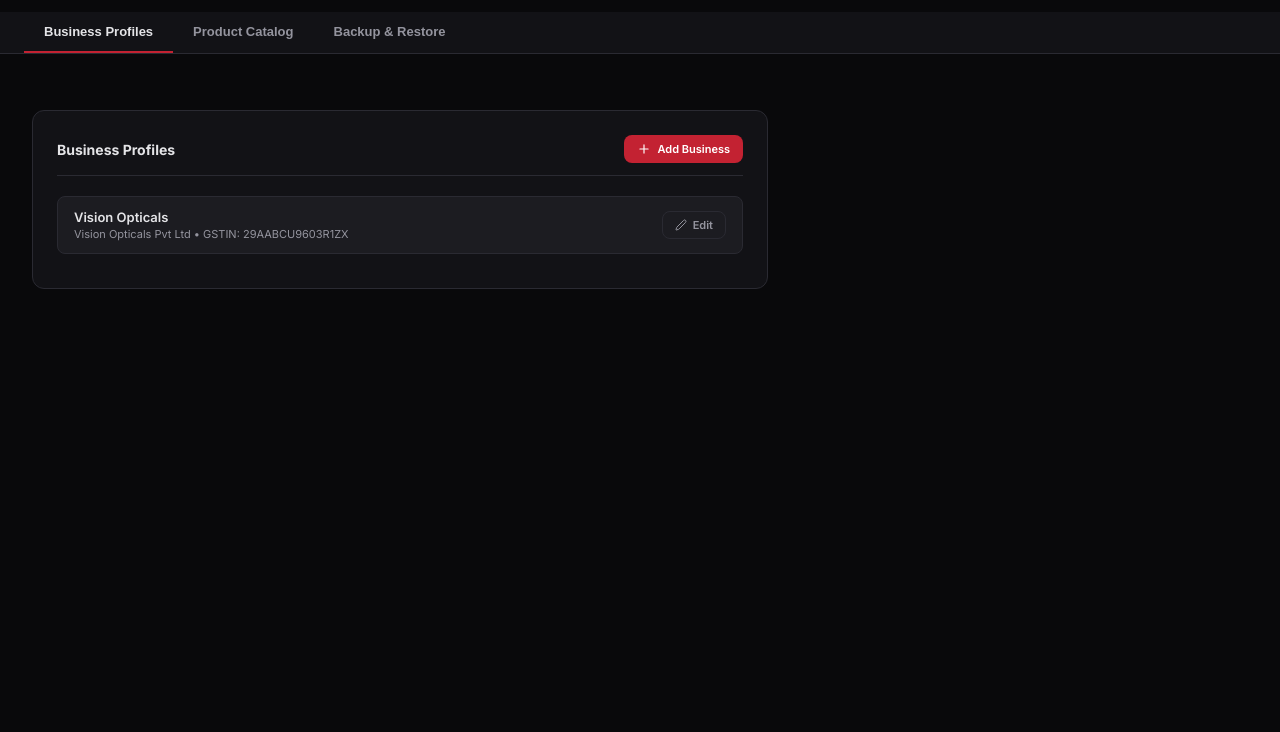
Test: SettingsScreen — Catalog CRUD › SC1: Existing catalog products are visible in the catalog tab
What coordinates should you click on to do the following:
click the button "Product Catalog"
I would click on:
 (243, 32)
Its box is [173,12,314,53].
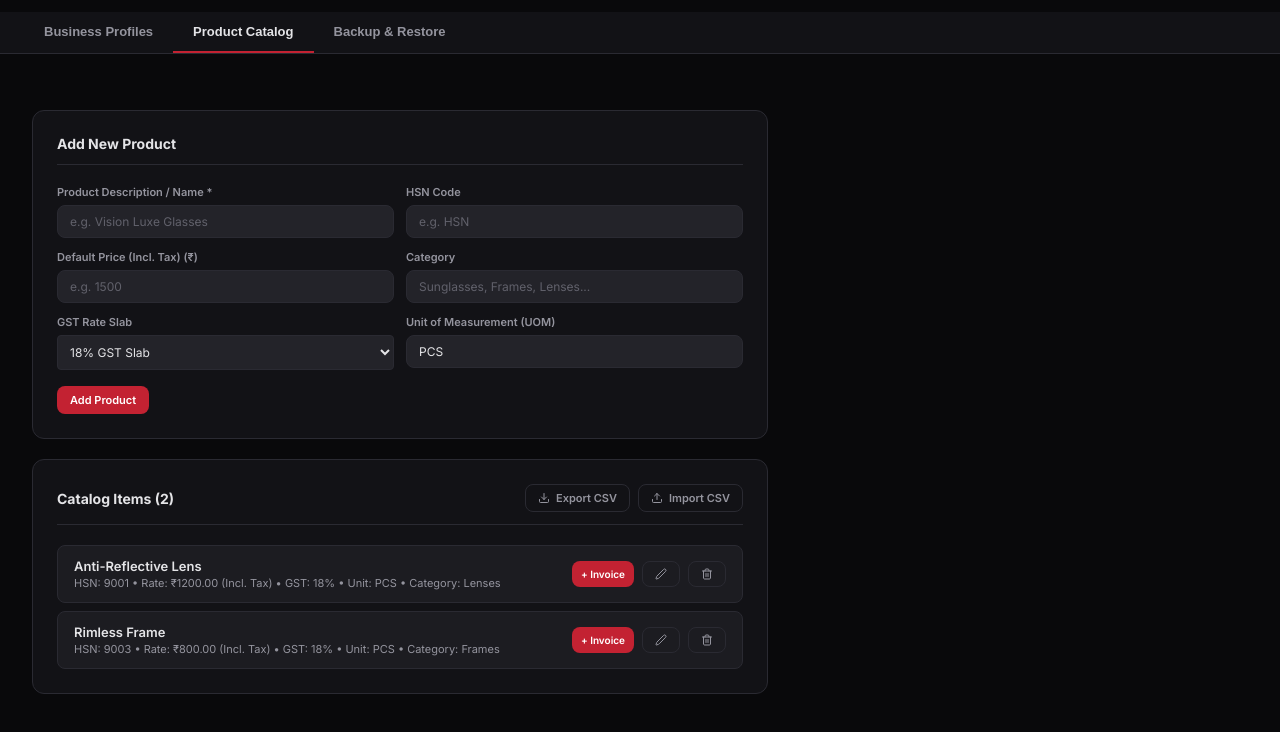
Check: the heading "Anti-Reflective Lens" is shown, box [74,558,202,574]
Check: the heading "Rimless Frame" is shown, box [74,624,166,640]
